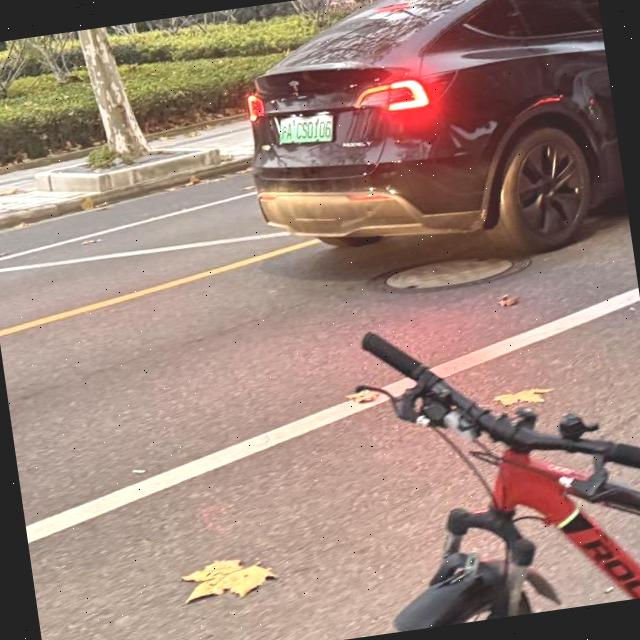curb: (0, 159, 249, 230), (36, 149, 221, 192), (0, 146, 105, 175), (149, 114, 244, 141)
